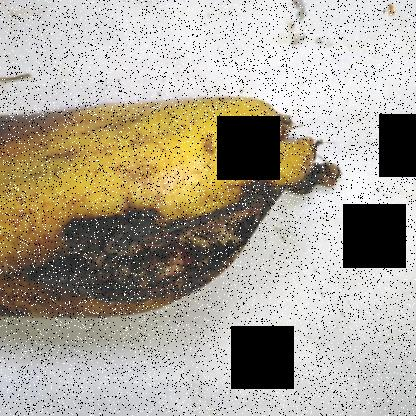ripe: (0, 75, 239, 216)
rotten: (47, 181, 284, 346), (0, 70, 93, 154)
